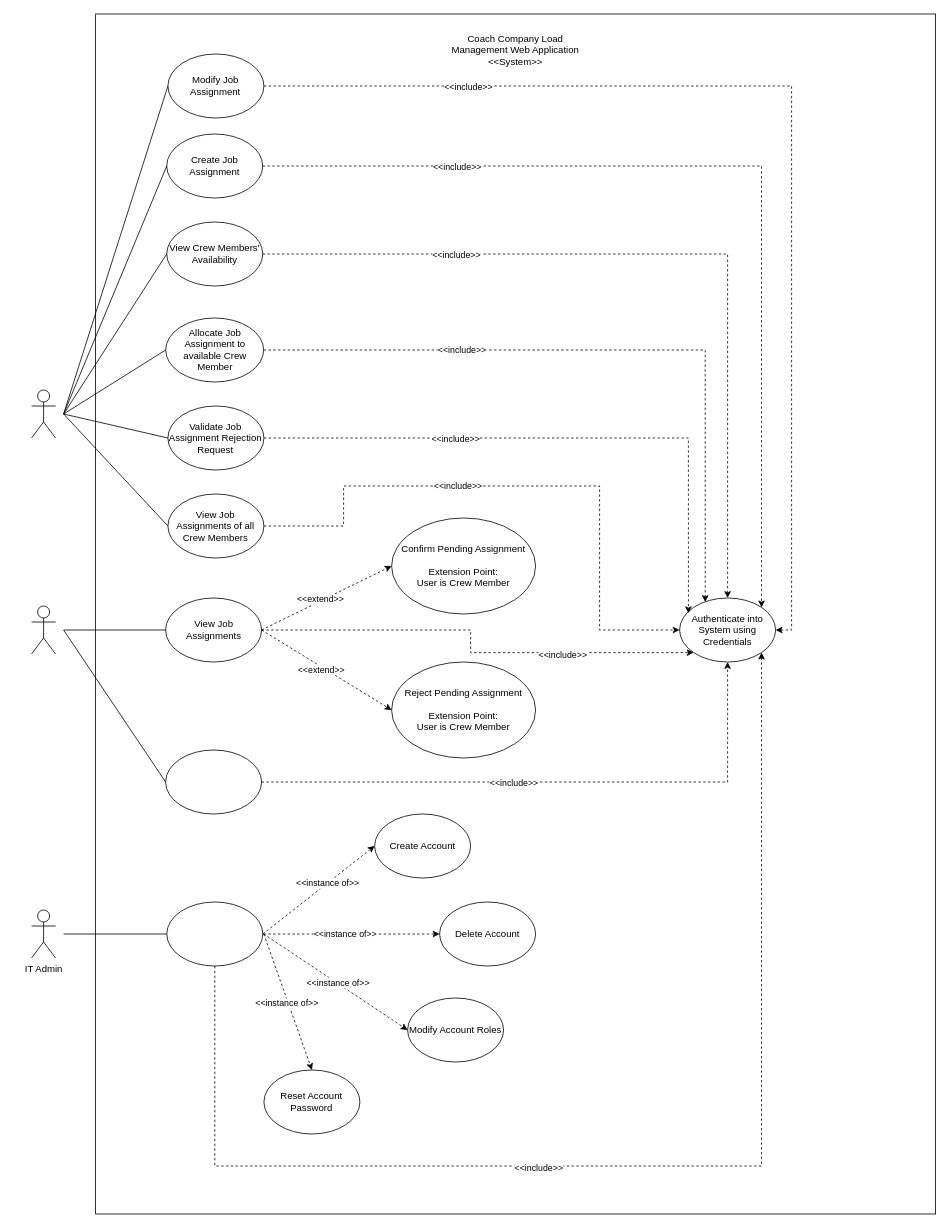
Some shapes in this 950 by 1228 pixel diagram are drawn without their labels. The centre of each missing label's shape, as x and y in pixels:
"Crew Member" belongs at (43,629).
"Indicate Non-Availability" belongs at (213,781).
"Manage Employee Accounts" belongs at (214,933).
"Manager" belongs at (43,413).
